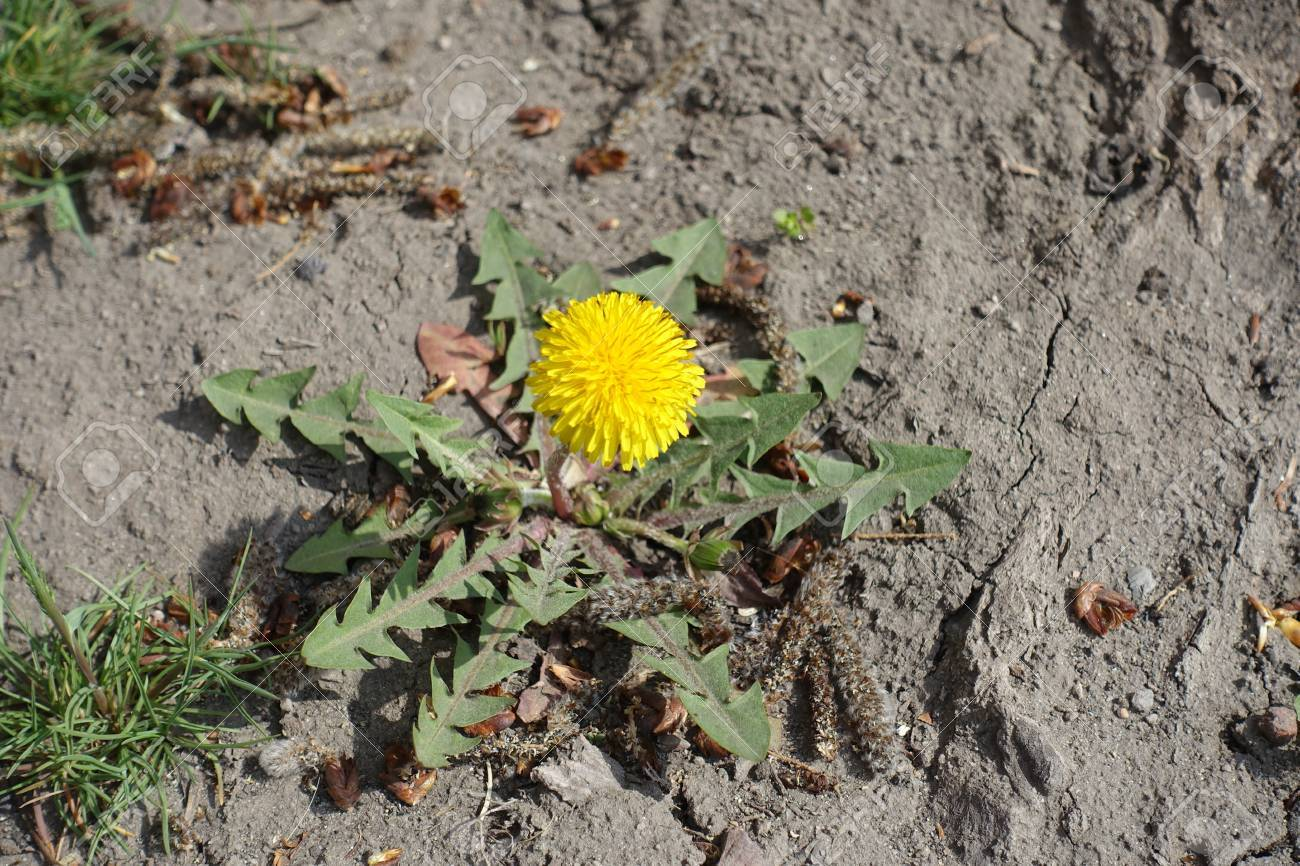dandelion: (537, 303, 696, 456)
